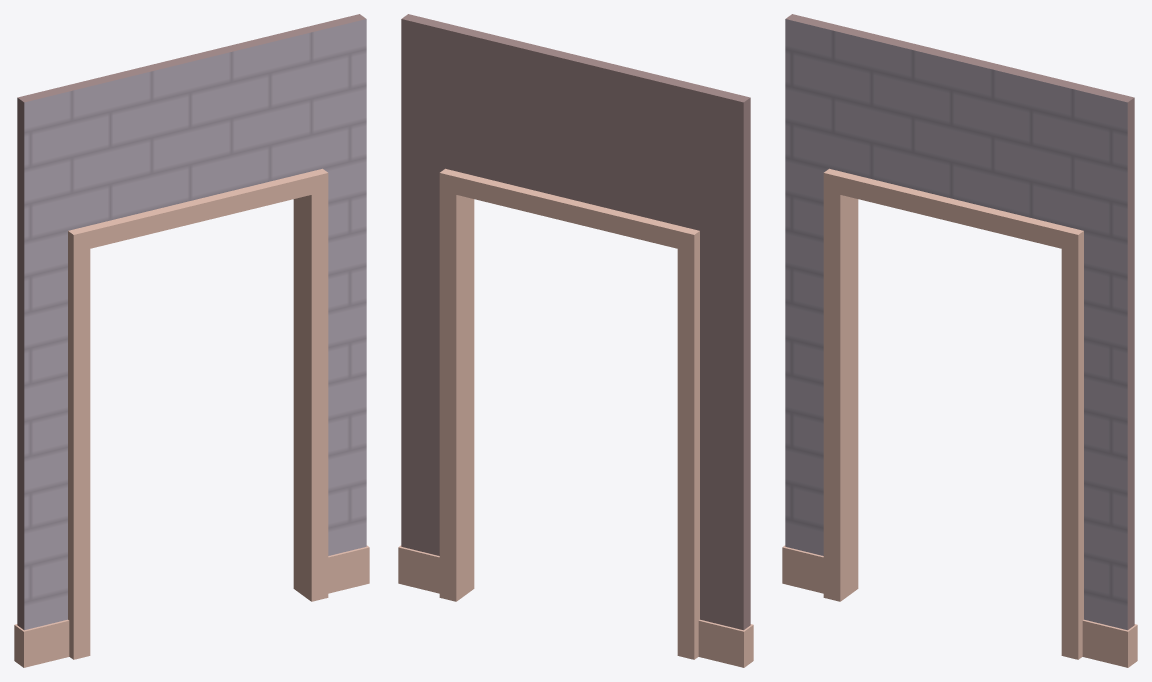
The model's file is SM_Door_Frame_2_05.fbx.
The picture shows the model from 3 angles, left to right: view 1: azimuth 30°, elevation 25°; view 2: azimuth 150°, elevation 25°; view 3: azimuth 330°, elevation 25°; orthographic projection.
Visible parts, largest first — view 1: SM_Door_Frame_2_05; view 2: SM_Door_Frame_2_05; view 3: SM_Door_Frame_2_05.
Part boxes in pixels (<box>): SM_Door_Frame_2_05: <box>14,14,369,667</box>; SM_Door_Frame_2_05: <box>398,14,753,667</box>; SM_Door_Frame_2_05: <box>782,14,1137,667</box>.
Size of the model in its own units: 190 by 295 by 17.13.
